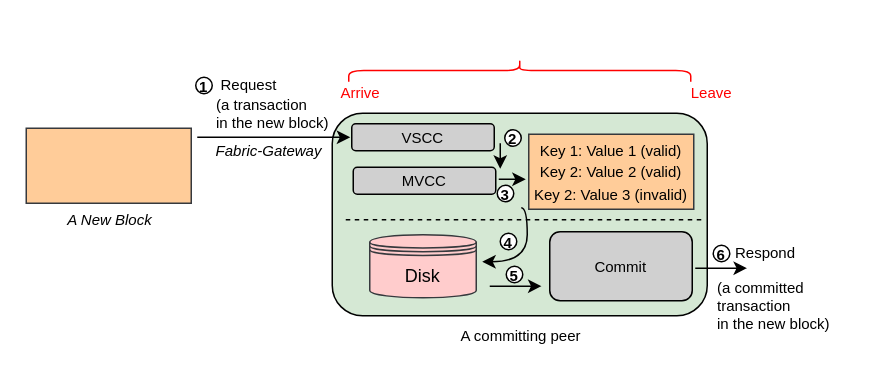
Some shapes in this 869 by 383 pixel diagram are drawn without their labels. Here are the shapes that lost their labels. From the top down, the centre of each, then its label:
At [519,70]: "General Service Time".
At [108,165]: "Key 1: Value 1 Key 2: Value 2 Key 2: Value 3".
